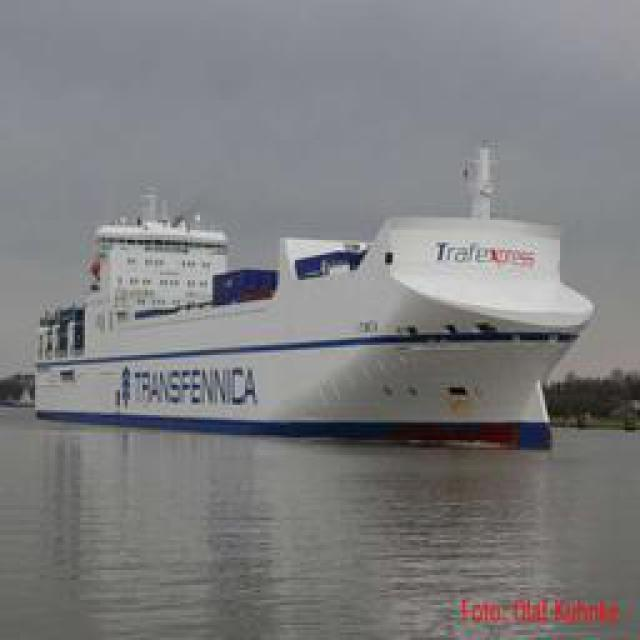Ship: (33, 194, 598, 434)
